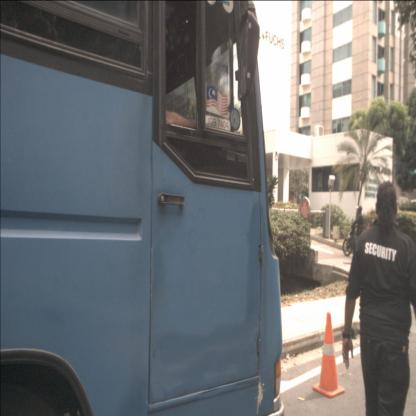human-pedestrian-adult: (342, 179, 415, 415)
movable_object-trafficcone: (312, 312, 346, 398)
vehicle-motorcycle: (342, 206, 382, 256)
vehicle-truck: (0, 0, 282, 416)
